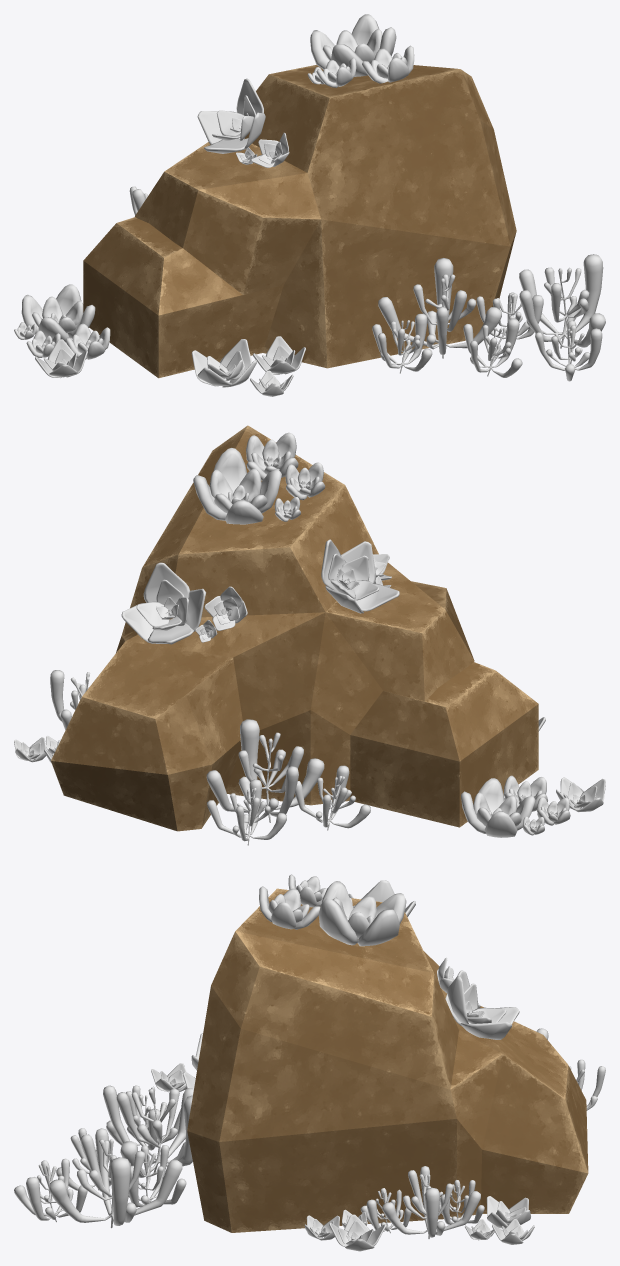
The model's file is WastelandStone.fbx.
The picture shows the model from 3 angles, top to bottom: view 1: azimuth 30°, elevation 25°; view 2: azimuth 150°, elevation 25°; view 3: azimuth 270°, elevation 25°; orthographic projection. The views are drawn at different scales.
Parts seen in each view (by area): view 1: Cube.033, Cube.026; view 2: Cube.033, Cube.026; view 3: Cube.033, Cube.026.
Part boxes in pixels (<box>): Cube.033: <box>83,65,516,378</box>; Cube.026: <box>14,14,605,396</box>; Cube.033: <box>51,425,538,831</box>; Cube.026: <box>14,432,605,845</box>; Cube.033: <box>187,888,588,1232</box>; Cube.026: <box>14,874,605,1251</box>.
Bounding box in the file's own units: 516 × 280 × 497.
